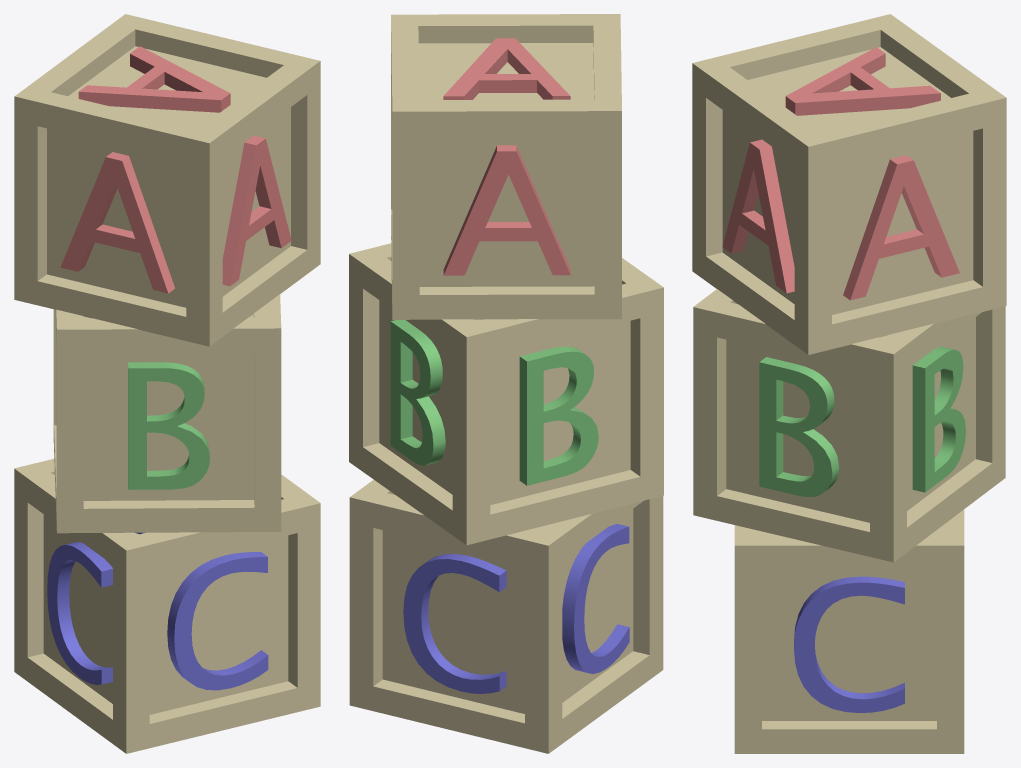
The model's file is SM_Cubes.fbx.
The picture shows the model from 3 angles, left to right: view 1: azimuth 30°, elevation 25°; view 2: azimuth 150°, elevation 25°; view 3: azimuth 270°, elevation 25°; orthographic projection. The views are drawn at different scales.
Parts seen in each view (by area): view 1: A_Cube, C_Cube, B_Cube, B5, A3, C1, A1, A5, C4; view 2: A_Cube, C_Cube, B_Cube, B2, A4, B6, C3, C4, A5; view 3: A_Cube, B_Cube, C_Cube, B1, A2, B6, C2, A1, A5.
Part boxes in pixels (x1,y1,x2,y2): A_Cube: [14, 14, 320, 346]; C_Cube: [14, 459, 320, 753]; B_Cube: [53, 294, 281, 533]; B5: [128, 362, 209, 489]; A3: [60, 152, 174, 293]; C1: [167, 552, 268, 690]; A1: [222, 135, 291, 286]; A5: [78, 46, 230, 112]; C4: [47, 542, 112, 684]; A_Cube: [391, 14, 621, 319]; C_Cube: [349, 479, 663, 753]; B_Cube: [349, 243, 663, 545]; B2: [519, 346, 598, 485]; A4: [443, 145, 570, 275]; B6: [390, 320, 445, 465]; C3: [403, 554, 506, 693]; C4: [562, 524, 629, 673]; A5: [443, 38, 570, 99]; A_Cube: [692, 14, 1006, 354]; B_Cube: [693, 289, 1005, 562]; C_Cube: [734, 509, 964, 753]; B1: [759, 357, 839, 496]; A2: [843, 155, 959, 300]; B6: [912, 347, 965, 492]; C2: [794, 576, 904, 712]; A1: [722, 139, 794, 293]; A5: [785, 47, 940, 115].
Bounding box in the file's own units: 6.84 × 15.01 × 6.84.
